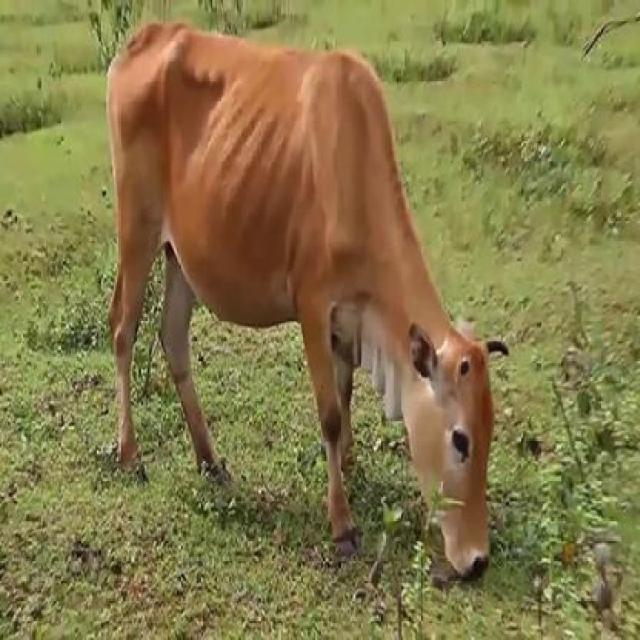Cow: (99, 14, 512, 592)
